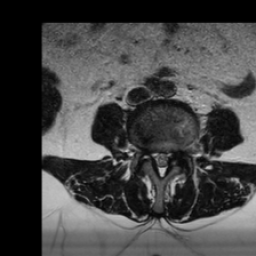CCS_normal: (158, 149, 165, 181)
LFS_severe_stenosis: (174, 142, 181, 160)
LLS_severe_stenosis: (166, 147, 174, 168)
RFS_severe_stenosis: (142, 141, 150, 160)
RLS_severe_stenosis: (150, 147, 157, 172)
